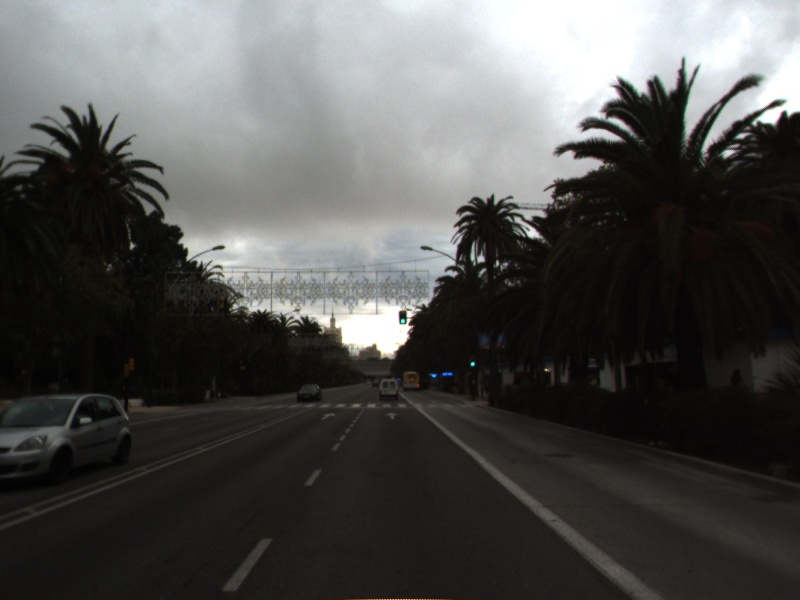STRAIGHT: (318, 411, 338, 422), (383, 410, 401, 422)
